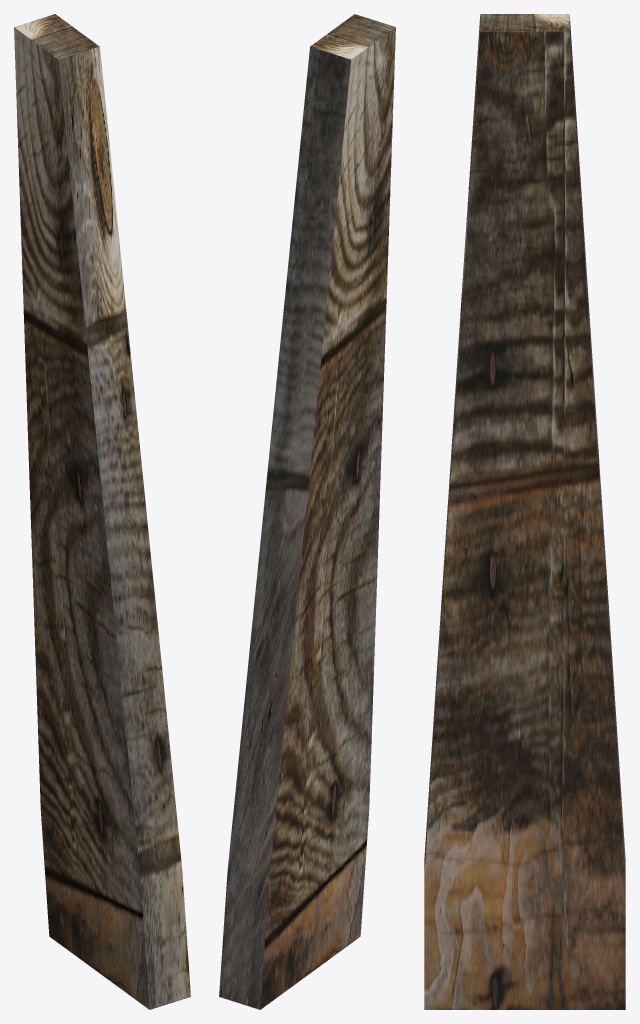
File: Katapult_Wurfarm.fbx
The picture shows the model from 3 angles, left to right: view 1: azimuth 30°, elevation 25°; view 2: azimuth 150°, elevation 25°; view 3: azimuth 270°, elevation 25°; orthographic projection.
Visible parts, largest first — view 1: Wurfarm; view 2: Wurfarm; view 3: Wurfarm.
Boxes of the visible parts, bbox=[...] form: Wurfarm: bbox=[14, 14, 190, 1009]; Wurfarm: bbox=[219, 14, 395, 1009]; Wurfarm: bbox=[424, 14, 625, 1009].
Size of the model in its own units: 0.89 by 7.72 by 1.48.
1 material, 1 textured.
